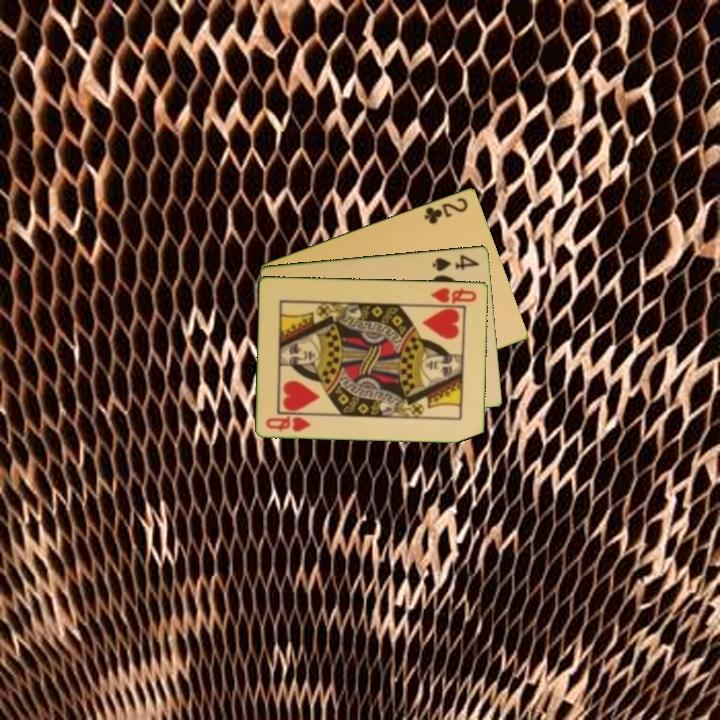2c: (421, 193, 471, 227)
4s: (429, 251, 482, 274)
Qh: (427, 284, 479, 306), (262, 412, 314, 434)
